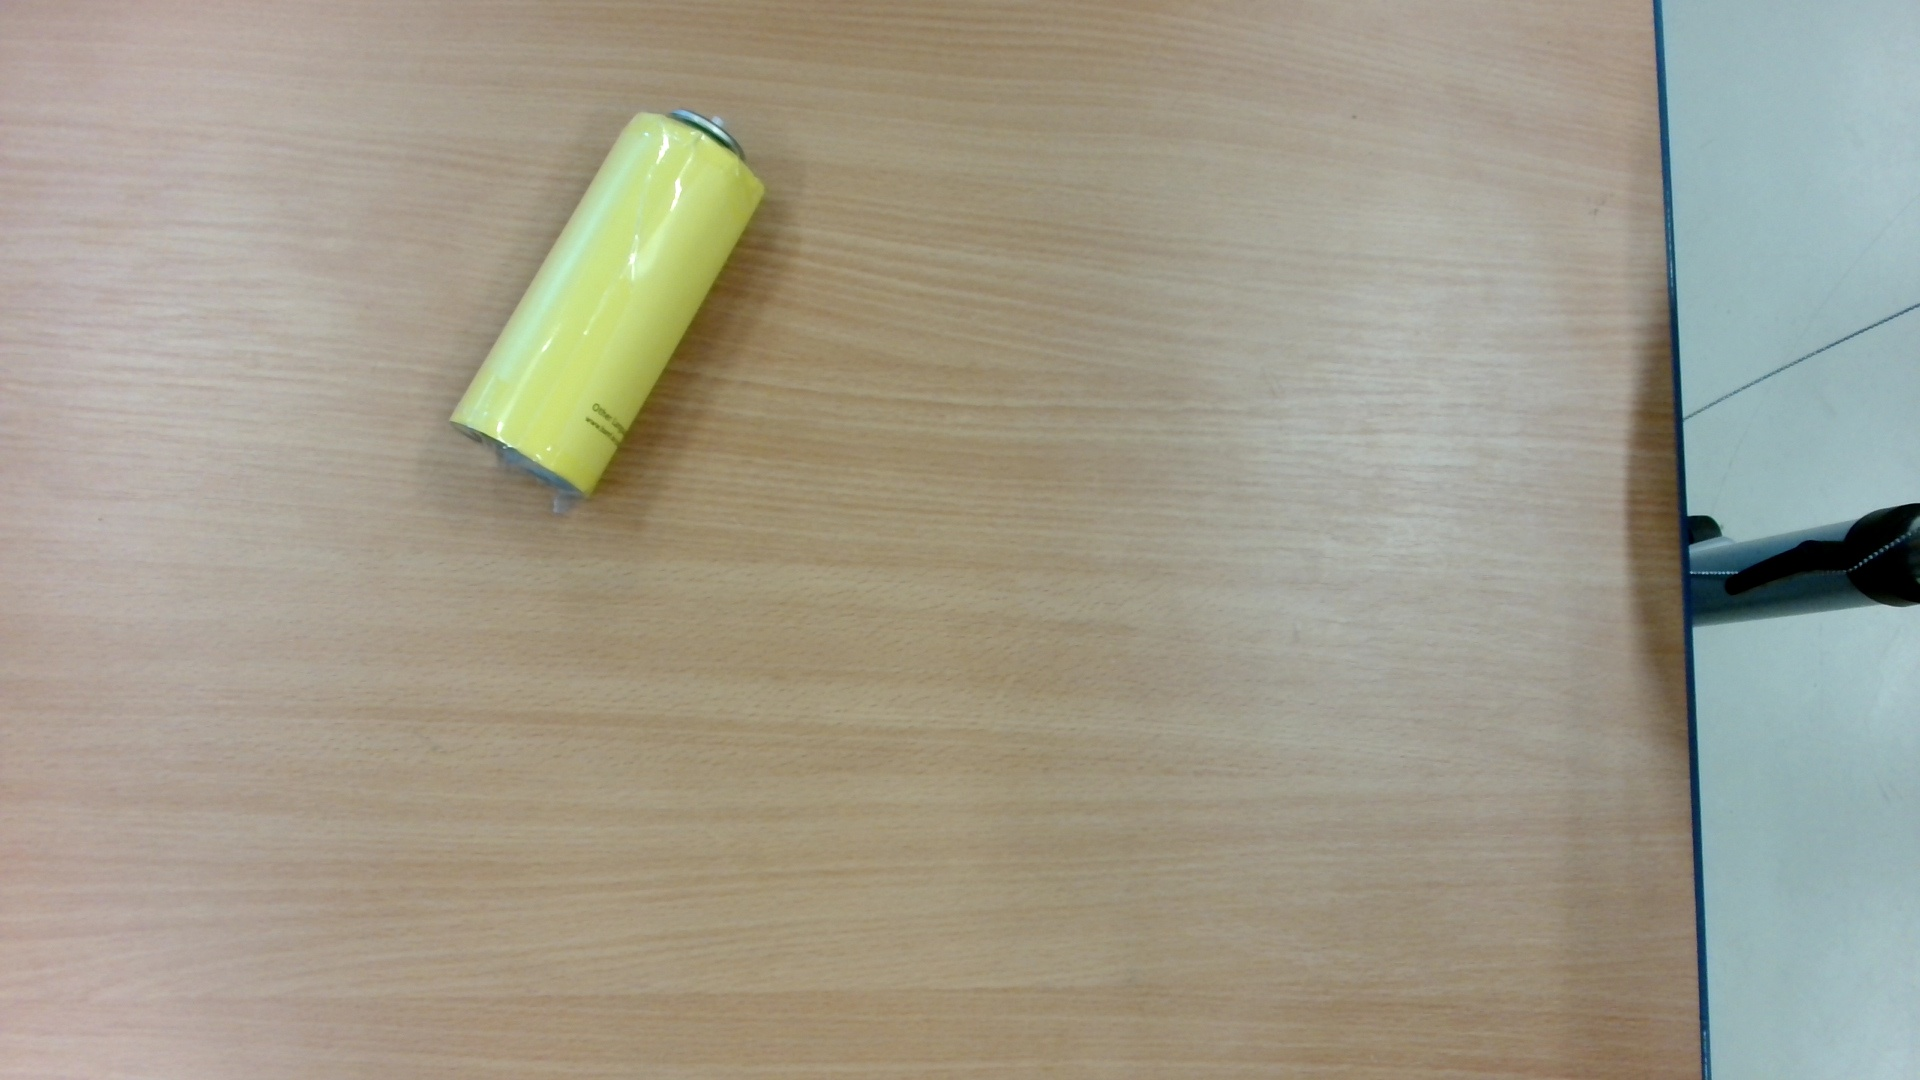Cylinder: (433, 88, 779, 530)
